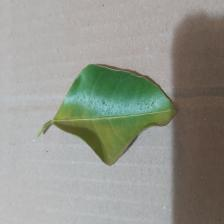greening: (35, 62, 181, 167)
